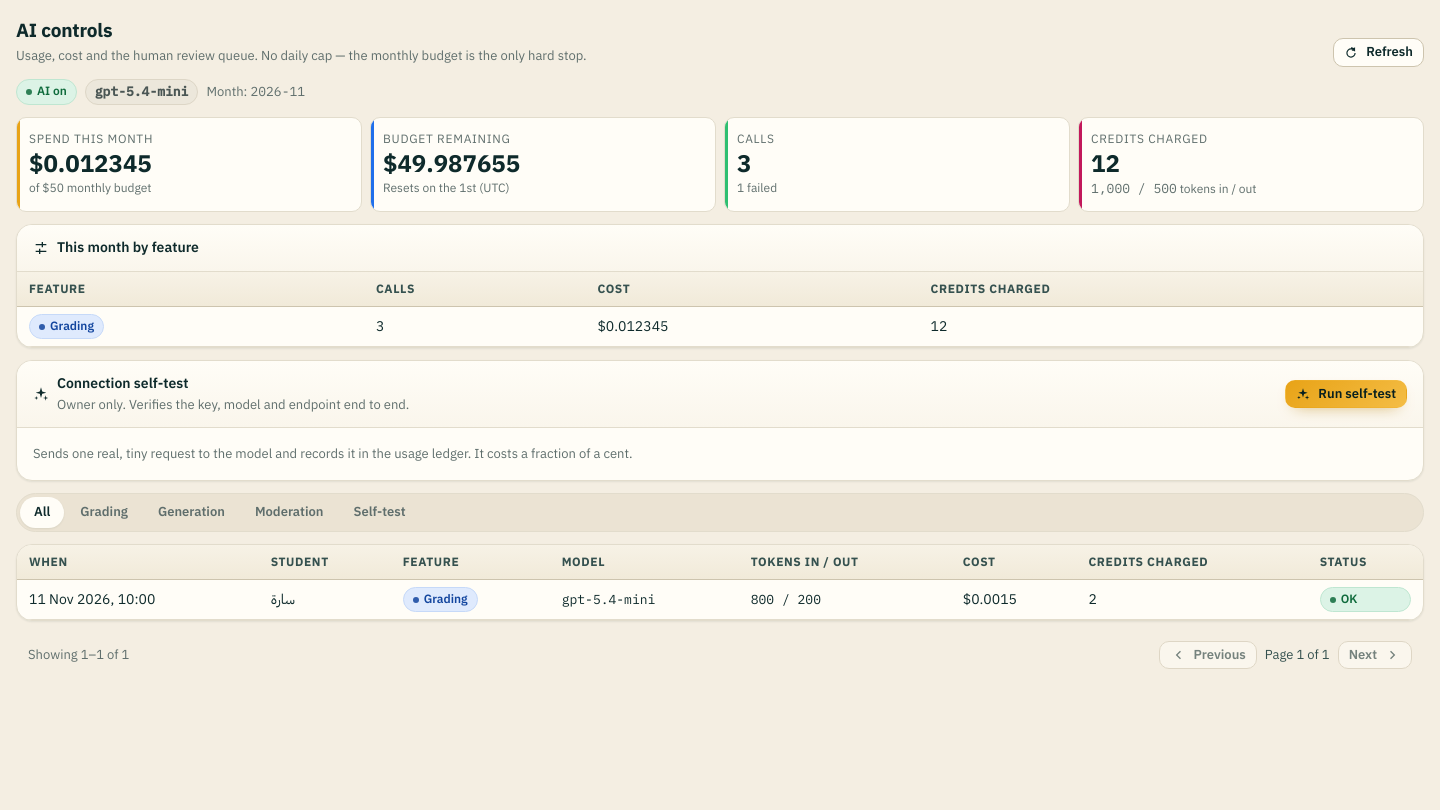
Test: AiPage › reports a failed self-test with the cause, never a silent pass
The width and height of the screenshot is (1440, 810).
Click the button "Run self-test". click: (1346, 394)
box: [1285, 380, 1407, 408]
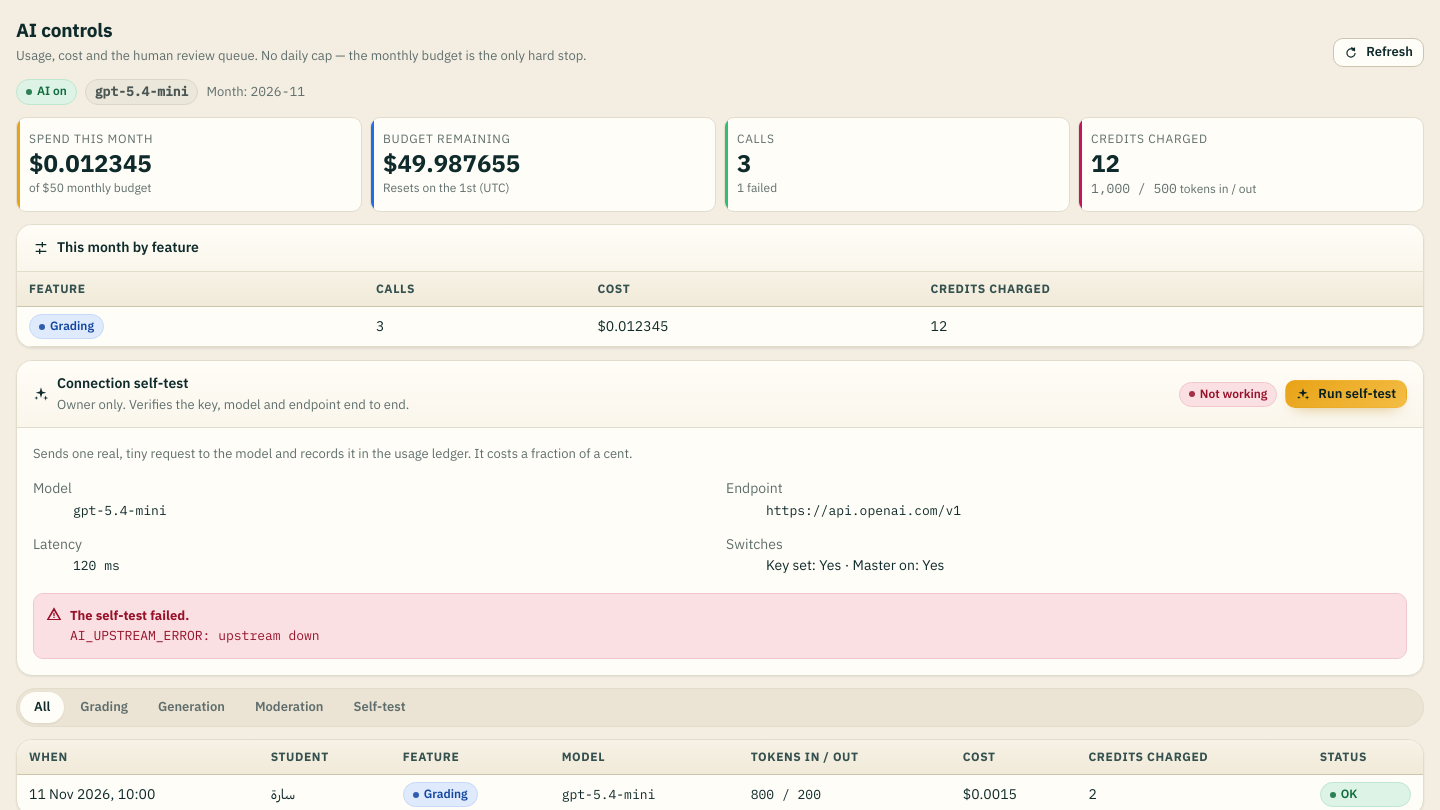
Expected: the text "The self-test failed." is shown, [70, 606, 189, 625]
Expected: the text "AI_UPSTREAM_ERROR: upstream down" is shown, [70, 627, 320, 644]
Expected: the text "Not working" is shown, [1179, 382, 1277, 407]
